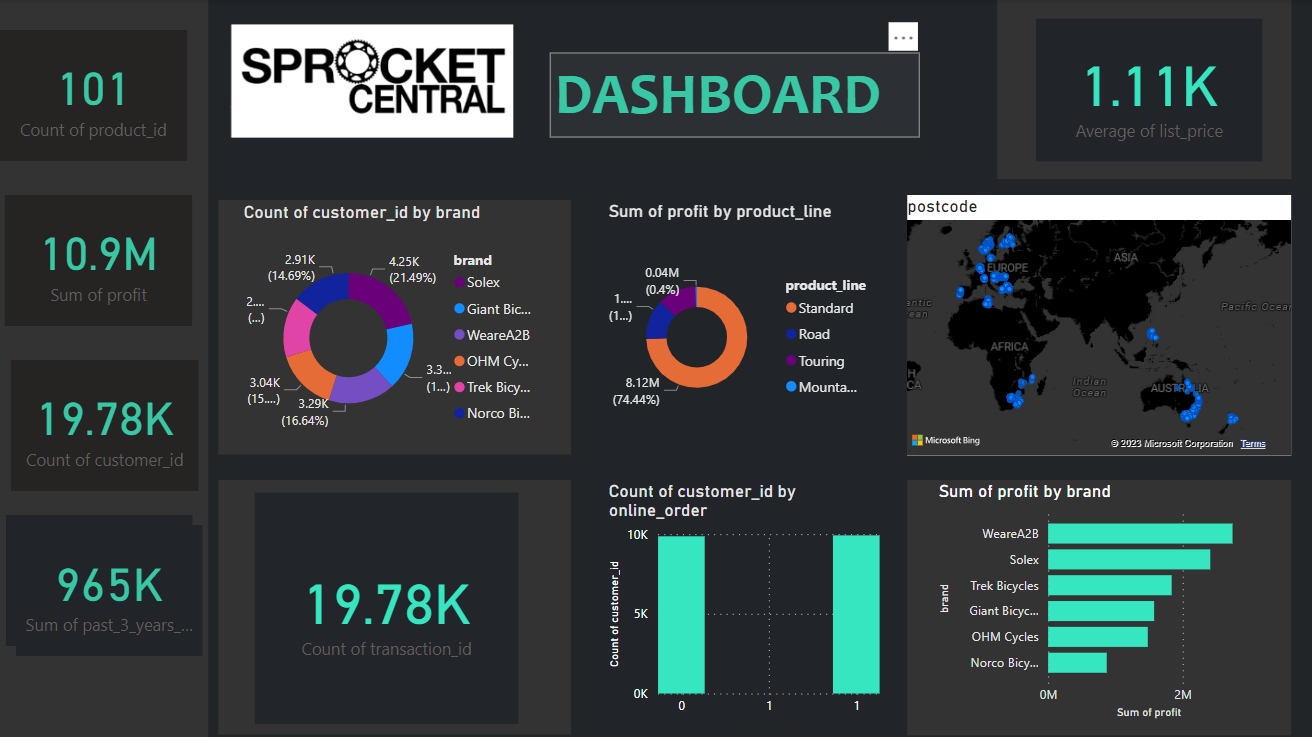

What the dashboard file says about the page in this screenshot:
{"tool":"powerbi","page":{"name":"Page 2","canvas":[1280,720],"ordinal":1},"visuals":[{"type":"shape","box":[0,0,209.8,719.8],"z":0},{"type":"shape","box":[219.4,463.4,340,245.4],"z":2000},{"type":"shape","box":[219.4,193.3,340,245.4],"z":3000},{"type":"shape","box":[884,463.1,370.3,246],"z":6000},{"type":"shape","box":[970.7,0,283.8,172.8],"z":7000},{"type":"image","box":[225.5,0,283.4,155.6],"z":8000},{"type":"card","fields":{"Values":["Sum(merged_data (2).profit)"]},"box":[13.7,188.2,181,126],"z":9000},{"type":"card","fields":{"Values":["CountNonNull(merged_data (2).customer_id)"]},"box":[19.1,347.6,180.9,126],"z":10000},{"type":"card","fields":{"Values":["Count(merged_data (2).product_id)"]},"box":[8.2,28.8,181,126.1],"z":11000},{"type":"card","fields":{"Values":["Sum(merged_data (2).past_3_years_bike_related_purchases)"]},"box":[14.5,496.9,179.7,126.6],"z":12000},{"type":"map","fields":{"Category":["merged_data (2).postcode"]},"box":[884,188.1,370.3,250.9],"z":13000},{"type":"donutChart","fields":{"Category":["merged_data (2).product_line"],"Y":["Sum(merged_data (2).profit)"]},"box":[591,193,271.4,246],"z":15000},{"type":"card","fields":{"Values":["Avg(merged_data (2).list_price)"]},"box":[1008.2,18.1,218.3,137.5],"z":16000},{"type":"card","fields":{"Values":["CountNonNull(merged_data (2).transaction_id)"]},"box":[254.5,475.2,254.5,223.1],"z":17000},{"type":"columnChart","fields":{"Category":["merged_data (2).online_order"],"Y":["CountNonNull(merged_data (2).customer_id)"]},"box":[591,463.1,271.4,246],"z":18000},{"type":"clusteredBarChart","fields":{"Category":["merged_data (2).brand"],"Y":["Sum(merged_data (2).profit)"]},"box":[909.3,463.1,319.6,235.2],"z":19000},{"type":"card","fields":{"Values":["Sum(merged_data (2).past_3_years_bike_related_purchases)"]},"box":[24.5,506.9,180,126.6],"z":20000},{"type":"textbox","box":[539.1,50.7,357,82],"z":20001},{"type":"donutChart","fields":{"Category":["merged_data (2).brand"],"Y":["CountNonNull(merged_data (2).customer_id)"]},"box":[238.8,194.2,300.3,244.8],"z":20002}]}

Visuals, with their boxes in screenshot pixels (x1, y1, x2, y2), scaled from the page's 1280x720 canvas onto the 1312x737 screenshot:
shape: <region>0, 0, 215, 736</region>
shape: <region>225, 474, 573, 726</region>
shape: <region>225, 198, 573, 449</region>
shape: <region>906, 474, 1286, 726</region>
shape: <region>995, 0, 1286, 177</region>
image: <region>231, 0, 522, 159</region>
card - Sum(merged_data (2).profit): <region>14, 193, 200, 322</region>
card - CountNonNull(merged_data (2).customer_id): <region>20, 356, 205, 485</region>
card - Count(merged_data (2).product_id): <region>8, 29, 194, 159</region>
card - Sum(merged_data (2).past_3_years_bike_related_purchases): <region>15, 509, 199, 638</region>
map - merged_data (2).postcode: <region>906, 193, 1286, 449</region>
donutChart - merged_data (2).product_line x Sum(merged_data (2).profit): <region>606, 198, 884, 449</region>
card - Avg(merged_data (2).list_price): <region>1033, 19, 1257, 159</region>
card - CountNonNull(merged_data (2).transaction_id): <region>261, 486, 522, 715</region>
columnChart - merged_data (2).online_order x CountNonNull(merged_data (2).customer_id): <region>606, 474, 884, 726</region>
clusteredBarChart - merged_data (2).brand x Sum(merged_data (2).profit): <region>932, 474, 1260, 715</region>
card - Sum(merged_data (2).past_3_years_bike_related_purchases): <region>25, 519, 210, 648</region>
textbox: <region>553, 52, 919, 136</region>
donutChart - merged_data (2).brand x CountNonNull(merged_data (2).customer_id): <region>245, 199, 553, 449</region>
